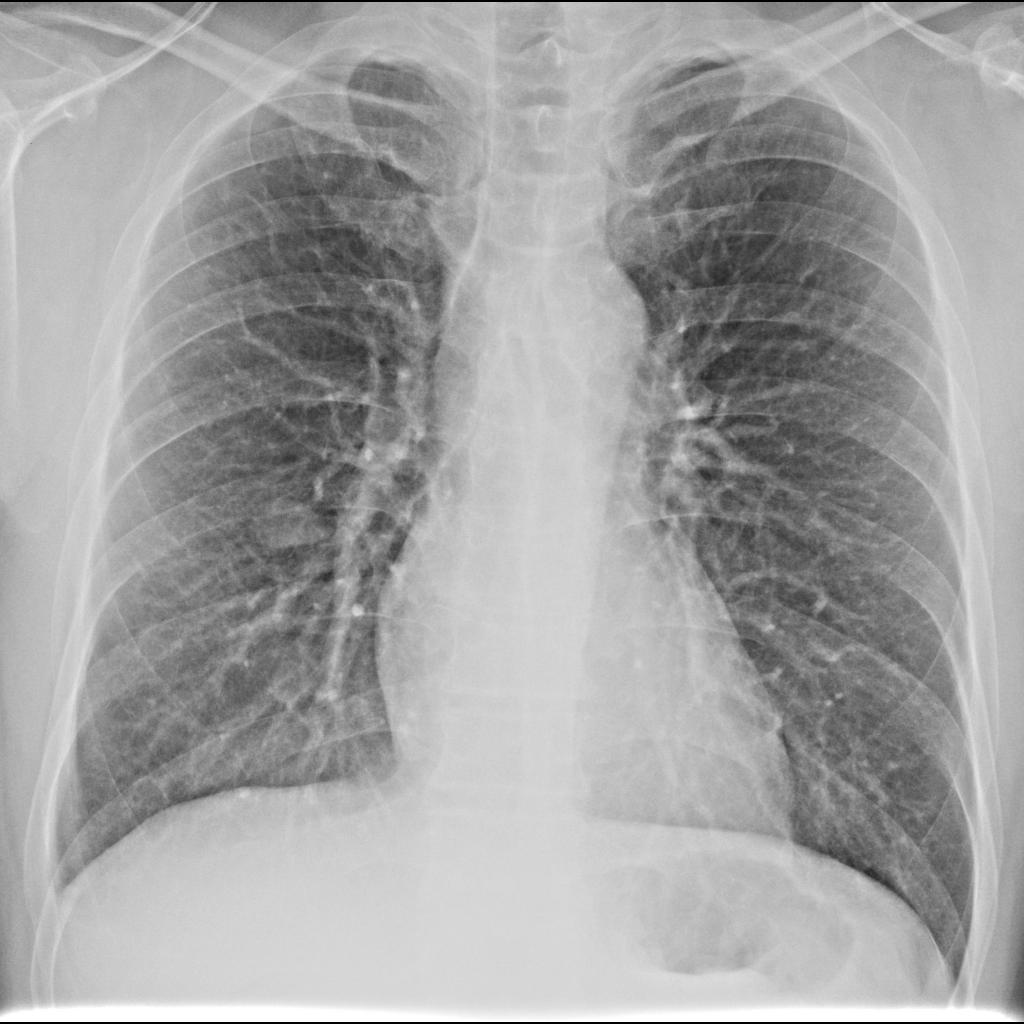Nodule: (251, 493, 319, 561)
